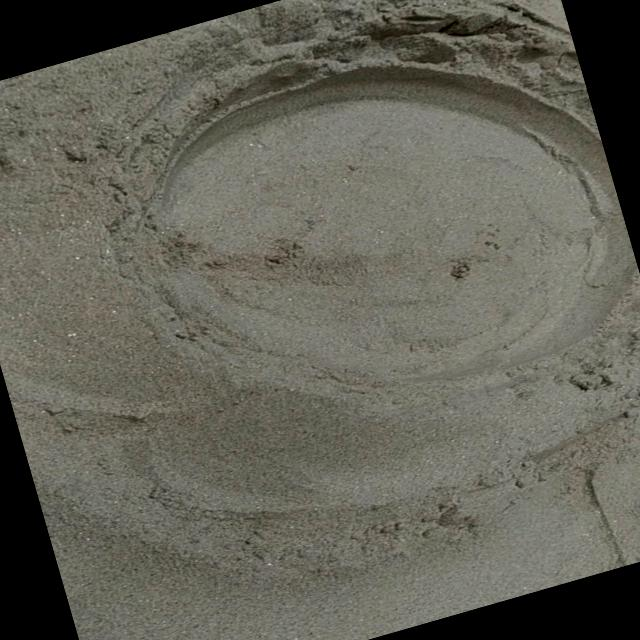C40: (157, 63, 638, 381)
